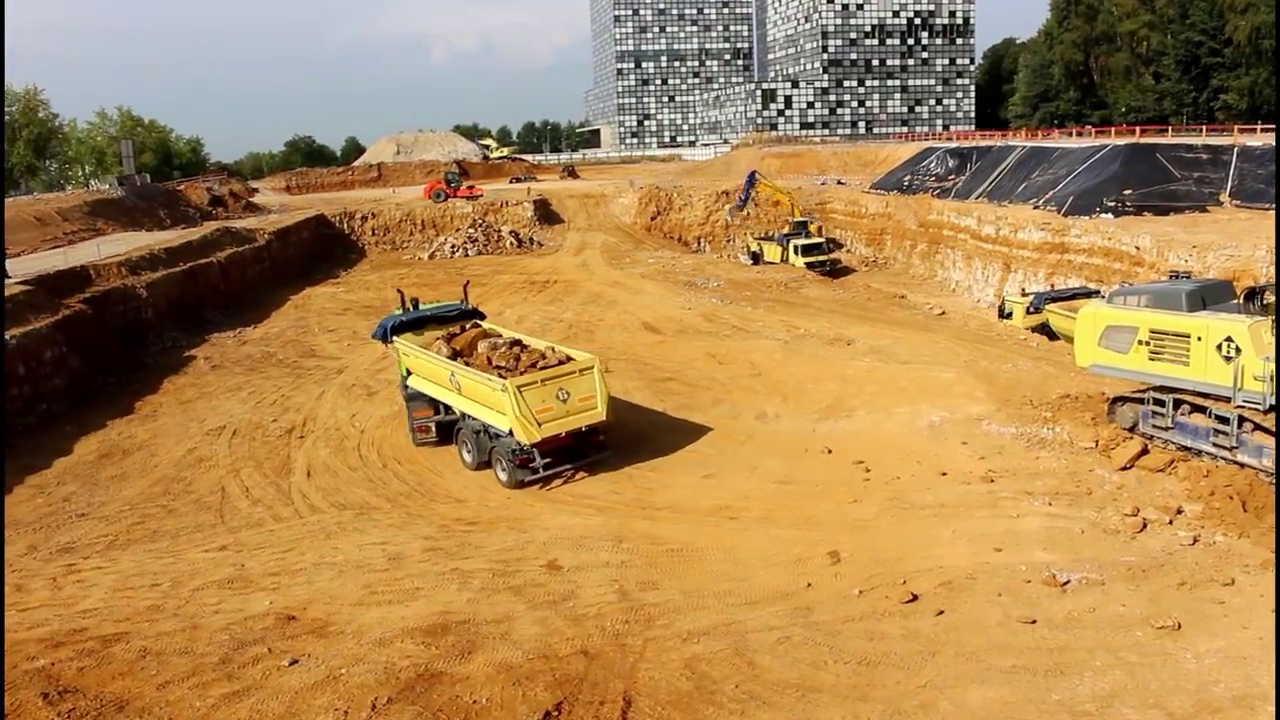compactor: (422, 171, 488, 209)
excavator: (1071, 268, 1280, 486), (724, 167, 834, 258), (469, 131, 523, 165)
truck: (371, 276, 613, 495), (996, 282, 1200, 395), (746, 230, 834, 285)
